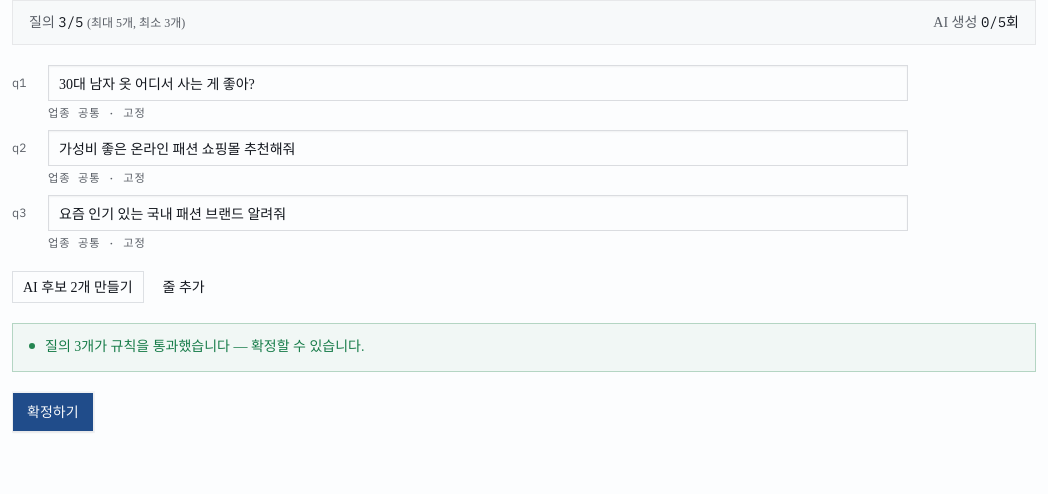
QueryEditor — AI 생성 › 빈 칸이 있으면 그 칸을 채운다
Click the button "줄 추가".
click(184, 288)  # box [152, 272, 216, 304]
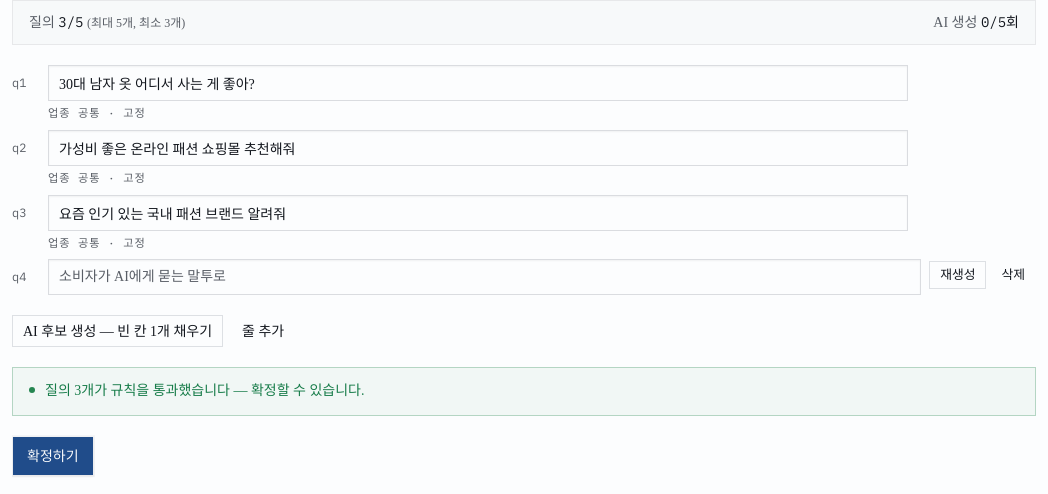
Click the button "AI 후보 생성 — 빈 칸 1개 채우기".
click(118, 332)  # box [12, 316, 223, 348]
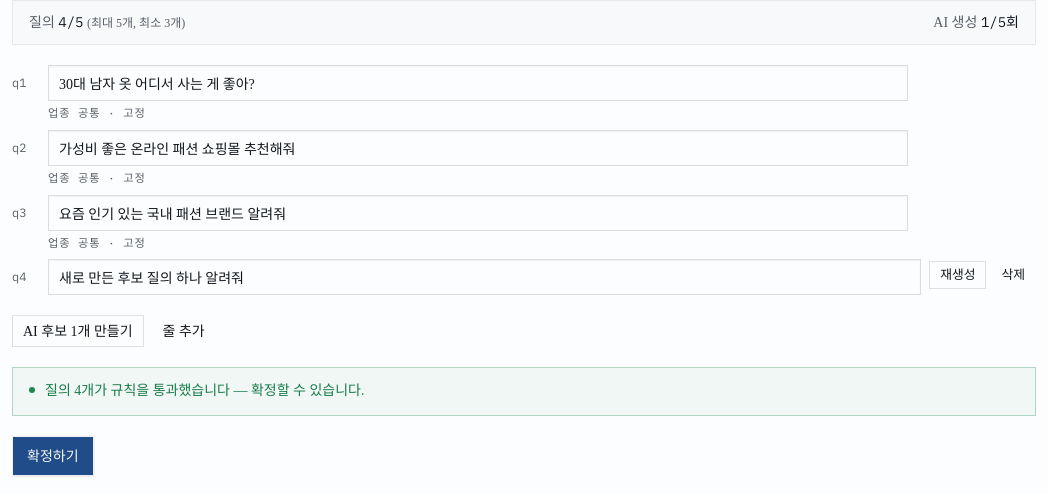
Check: the field named "질의 4" holds "새로 만든 후보 질의 하나 알려줘", box [48, 260, 921, 296]
